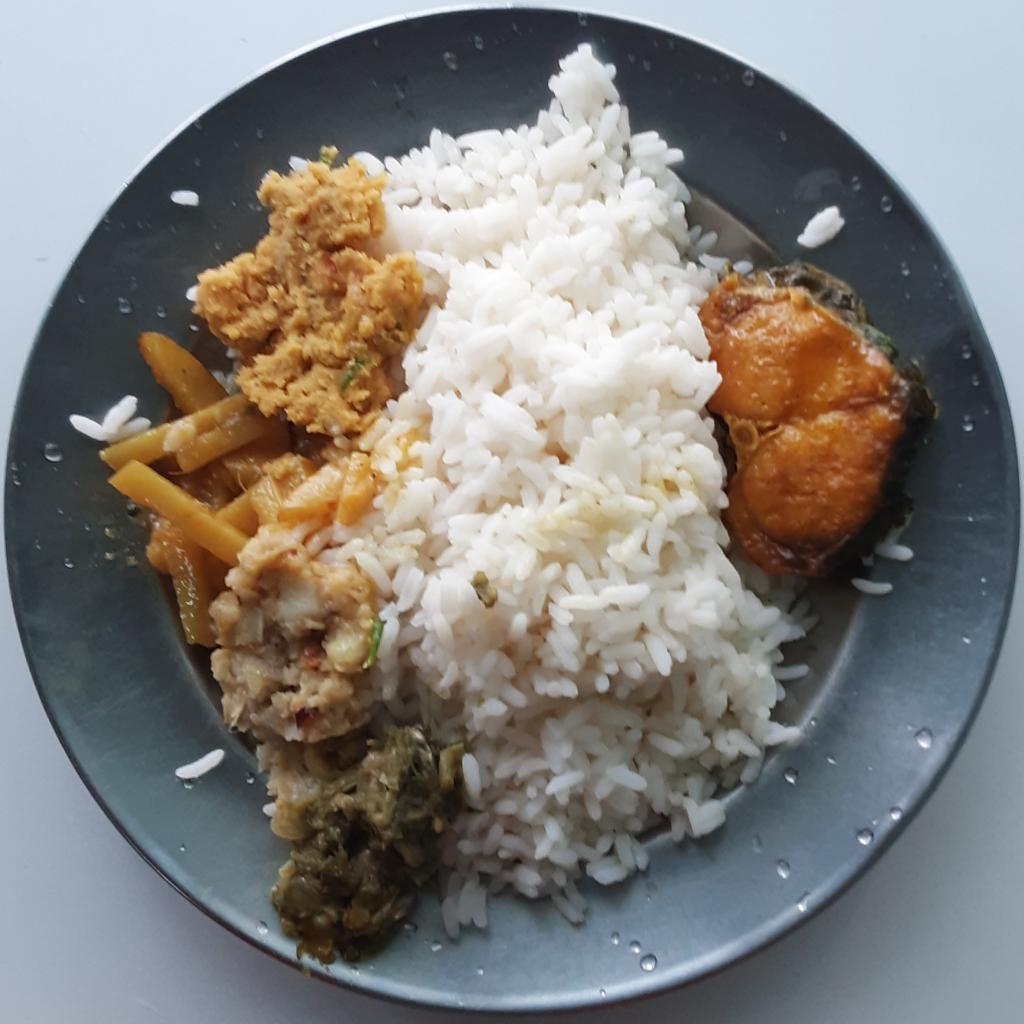daal: (198, 148, 427, 431)
fish: (696, 265, 939, 586)
potato: (96, 327, 363, 654)
potato-mashed: (206, 535, 381, 846)
rice: (304, 42, 813, 939)
shim: (272, 718, 456, 964)
